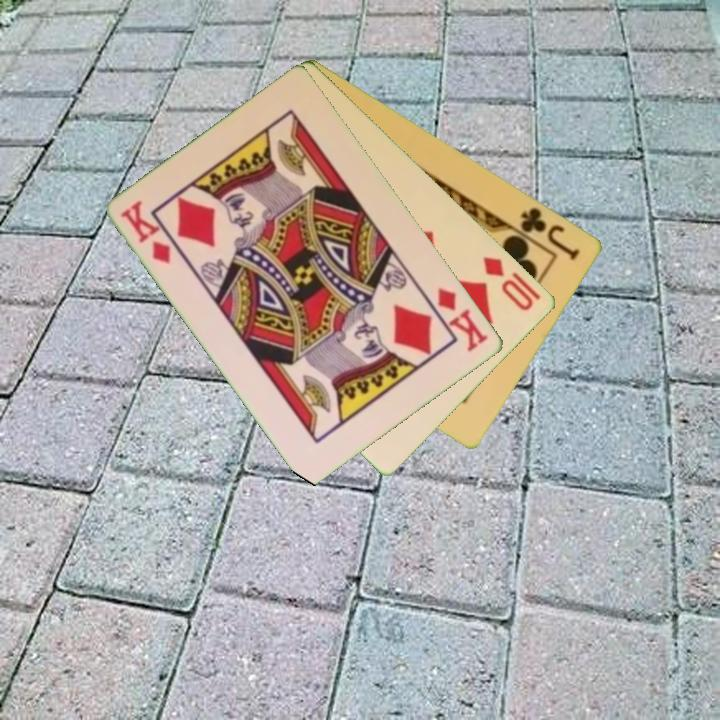10d: (480, 252, 537, 314)
Jc: (517, 203, 583, 263)
Kd: (422, 283, 492, 355), (117, 197, 175, 267)
